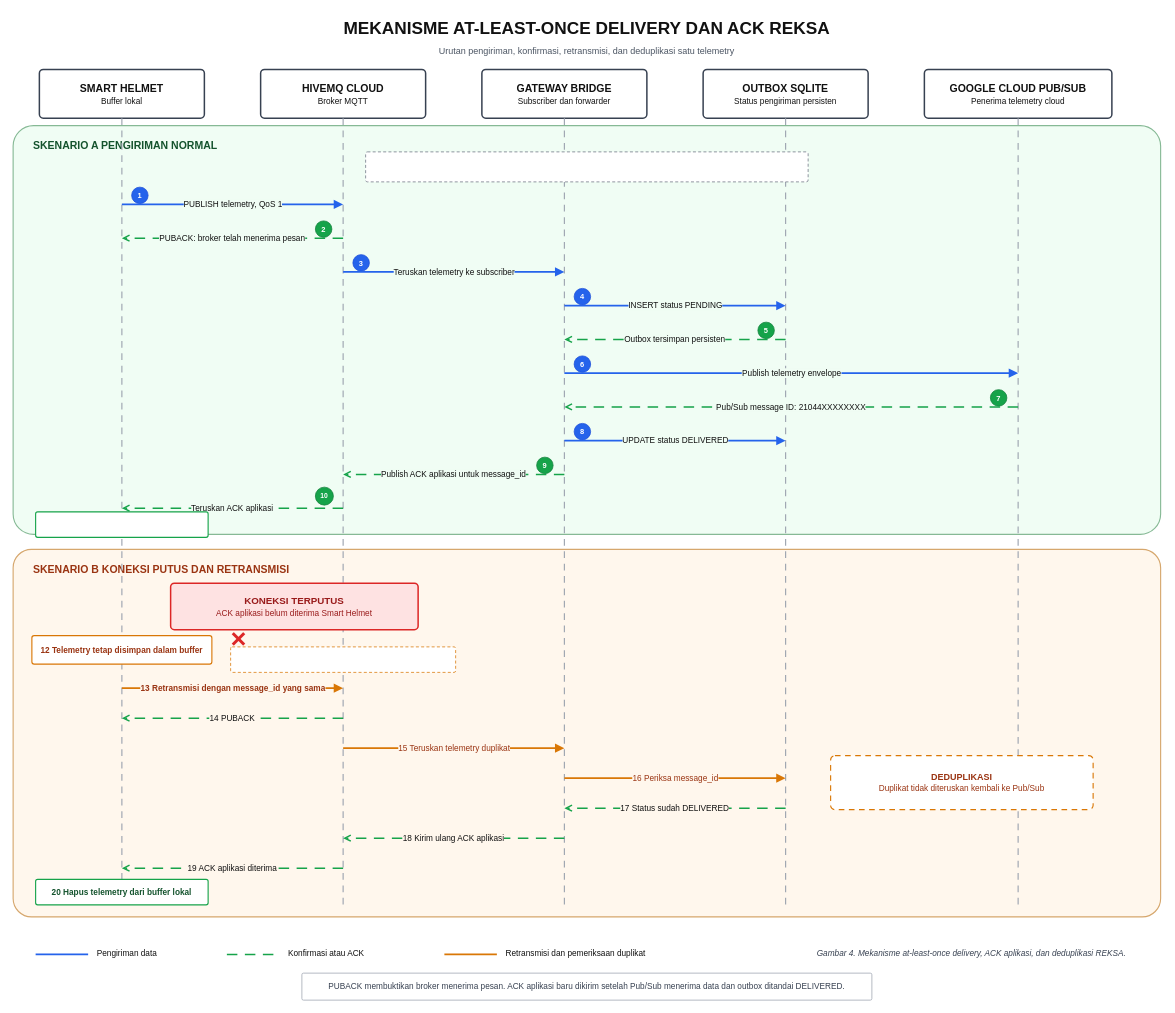
This 1175x1013 diagram has some shape labels left out. Each missing label, with the centre of its shape:
"11 Hapus telemetry dari buffer lokal" belongs at [121,524].
"Contoh message_id REKSA: HELMET-W01-XXXXXX-274520" belongs at [586,166].
"Wi-Fi dan MQTT tersambung kembali" belongs at [343,659].
